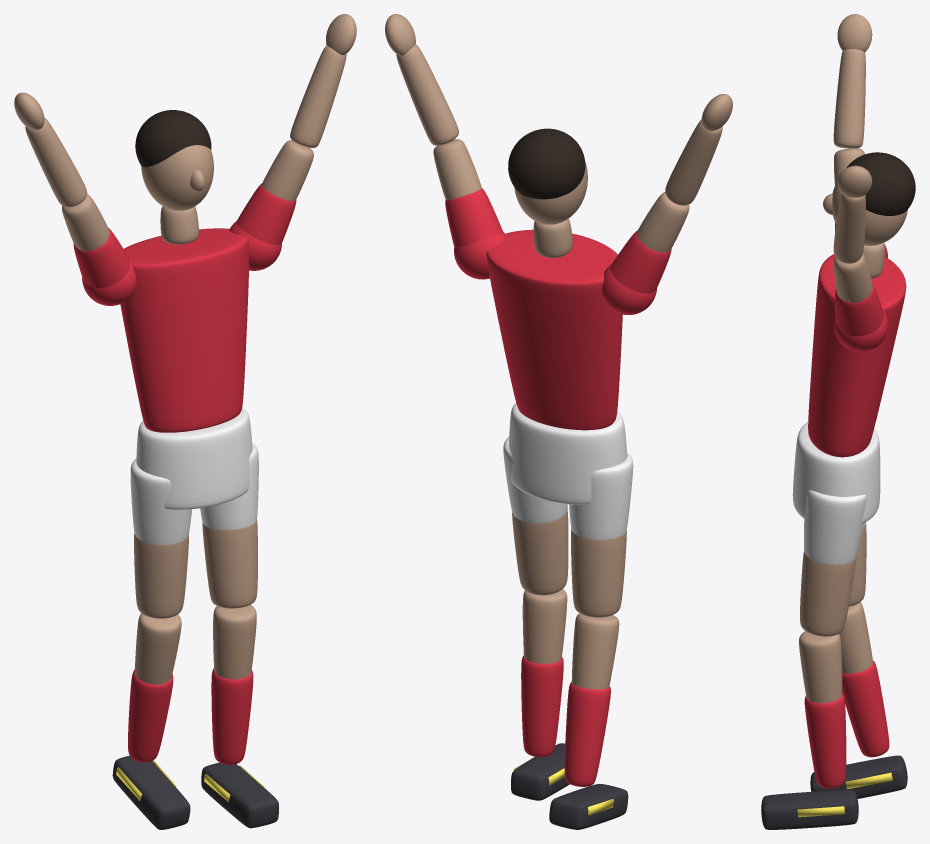
Rendered from reward-celeb-hands-up.glb.
3 renders of one model, left to right at view 1: azimuth 30°, elevation 25°; view 2: azimuth 150°, elevation 25°; view 3: azimuth 270°, elevation 25°, orthographic. The views are drawn at different scales.
Parts seen in each view (by area): view 1: Cone.001, Cone, Cone.007, Cone.014, Cone.013, Cone.009, Sphere, Cube.002, Cube, Cone.016, Cone.005, Cone.008 (+13 smaller); view 2: Cone.001, Cone, Sphere.001, Cone.014, Cone.007, Cone.016, Cone.009, Cone.013, Cone.015, Cone.005, Cone.008, Cube.002 (+13 smaller); view 3: Cone.001, Cone, Cone.006, Cone.007, Cone.009, Cube, Cone.016, Cone.012, Sphere.001, Cone.008, Cube.002, Cone.005 (+12 smaller).
Boxes of the visible parts, <box> form: Cone.001: <box>120,228,249,432</box>; Cone: <box>136,408,252,509</box>; Cone.007: <box>202,520,257,608</box>; Cone.014: <box>134,534,188,618</box>; Cone.013: <box>130,459,192,544</box>; Cone.009: <box>211,668,253,764</box>; Sphere: <box>141,145,213,210</box>; Cube.002: <box>112,755,190,829</box>; Cube: <box>201,762,278,828</box>; Cone.016: <box>128,669,173,762</box>; Cone.005: <box>290,46,346,147</box>; Cone.008: <box>213,605,256,679</box>; Cone.001: <box>486,229,622,430</box>; Cone: <box>509,403,627,504</box>; Sphere.001: <box>508,128,585,199</box>; Cone.014: <box>571,529,626,617</box>; Cone.007: <box>512,508,568,595</box>; Cone.016: <box>564,682,610,786</box>; Cone.009: <box>521,655,563,757</box>; Cone.013: <box>569,453,633,539</box>; Cone.015: <box>571,613,619,689</box>; Cone.005: <box>396,44,458,145</box>; Cone.008: <box>522,589,567,663</box>; Cube.002: <box>549,784,628,829</box>; Cone.001: <box>808,254,906,457</box>; Cone: <box>792,422,880,523</box>; Cone.006: <box>804,490,866,564</box>; Cone.007: <box>800,552,856,636</box>; Cone.009: <box>804,693,846,788</box>; Cube: <box>761,790,858,829</box>; Cone.016: <box>842,660,889,757</box>; Cone.012: <box>833,49,865,148</box>; Sphere.001: <box>846,152,915,215</box>; Cone.008: <box>799,631,842,703</box>; Cube.002: <box>810,755,907,798</box>; Cone.005: <box>833,194,865,263</box>.
Size of the model in its own units: 1.92 by 4.09 by 0.7898.
